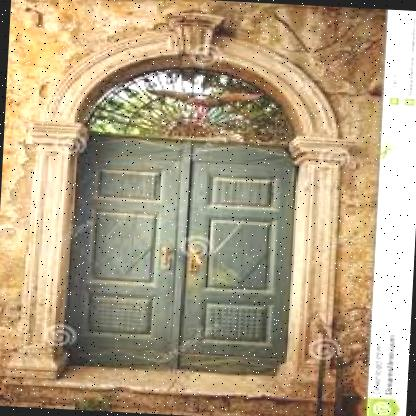door: (57, 32, 316, 381)
